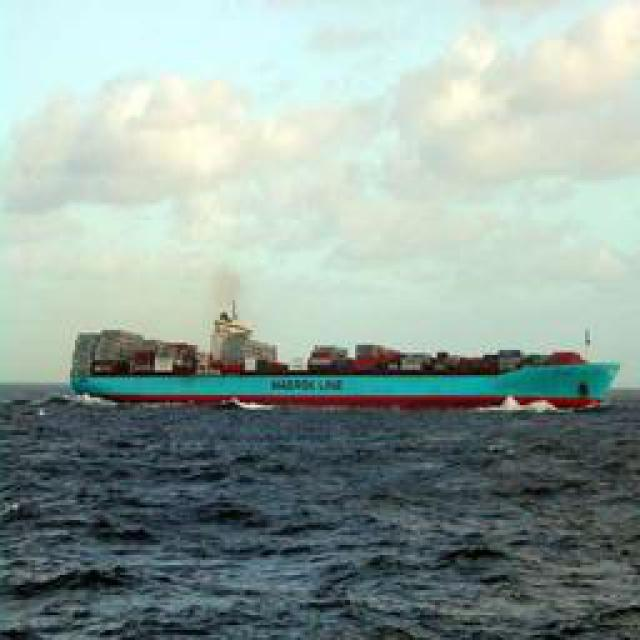Ship: (55, 320, 618, 410)
